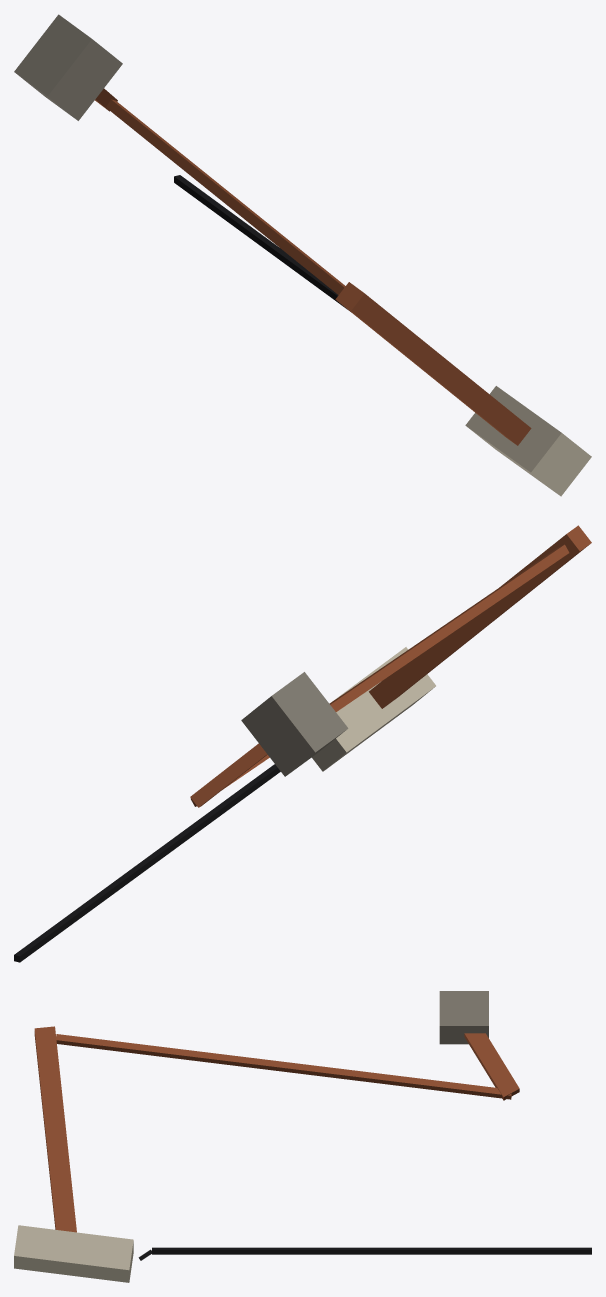
3 views of the same model, one above another, from view 1: azimuth 30°, elevation 25°; view 2: azimuth 150°, elevation 25°; view 3: azimuth 270°, elevation 25° (orthographic). The views are drawn at different scales.
Visible parts, largest first — view 1: t00_g29_p11; view 2: t00_g29_p11; view 3: t00_g29_p11.
Part boxes in pixels (x1=…): t00_g29_p11: x1=14, y1=14, x2=591, y2=496; t00_g29_p11: x1=14, y1=525, x2=591, y2=962; t00_g29_p11: x1=14, y1=991, x2=591, y2=1282.
Size of the model in its own units: 11.04 by 11.94 by 28.06.
